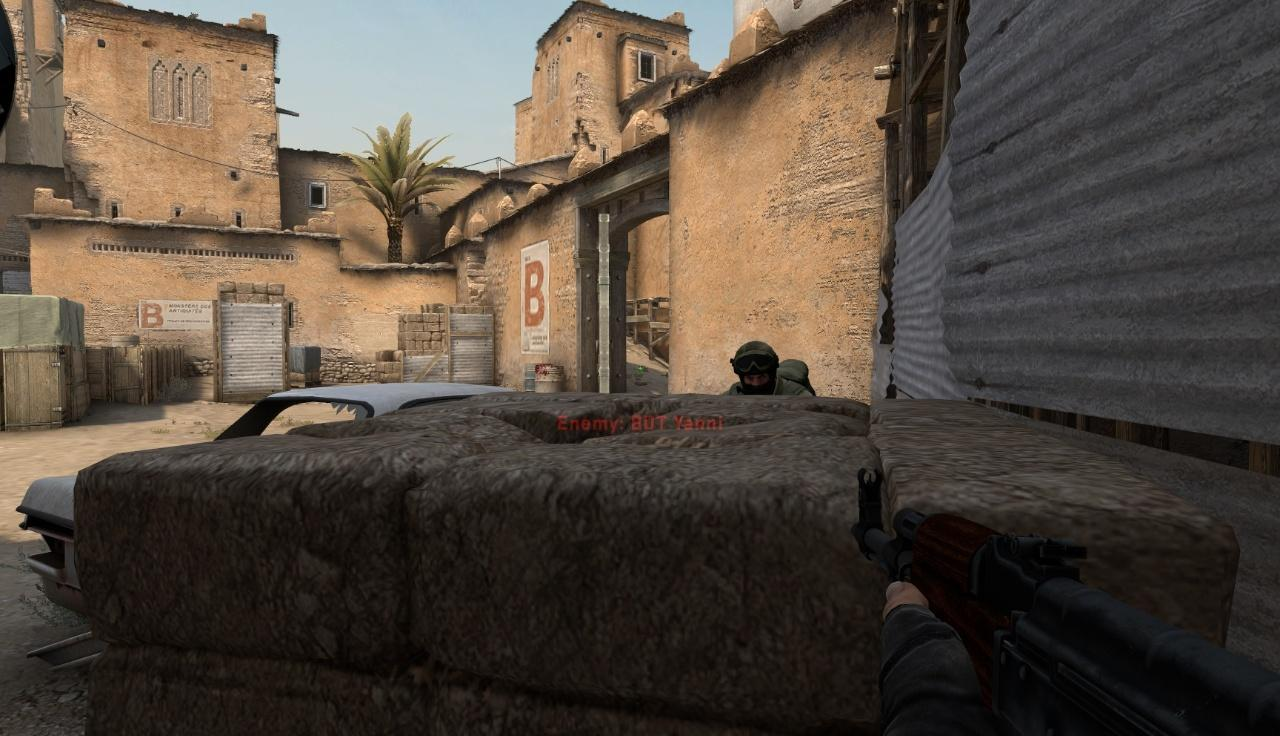cthead: (733, 342, 777, 393)
rifle: (847, 462, 1280, 736)
